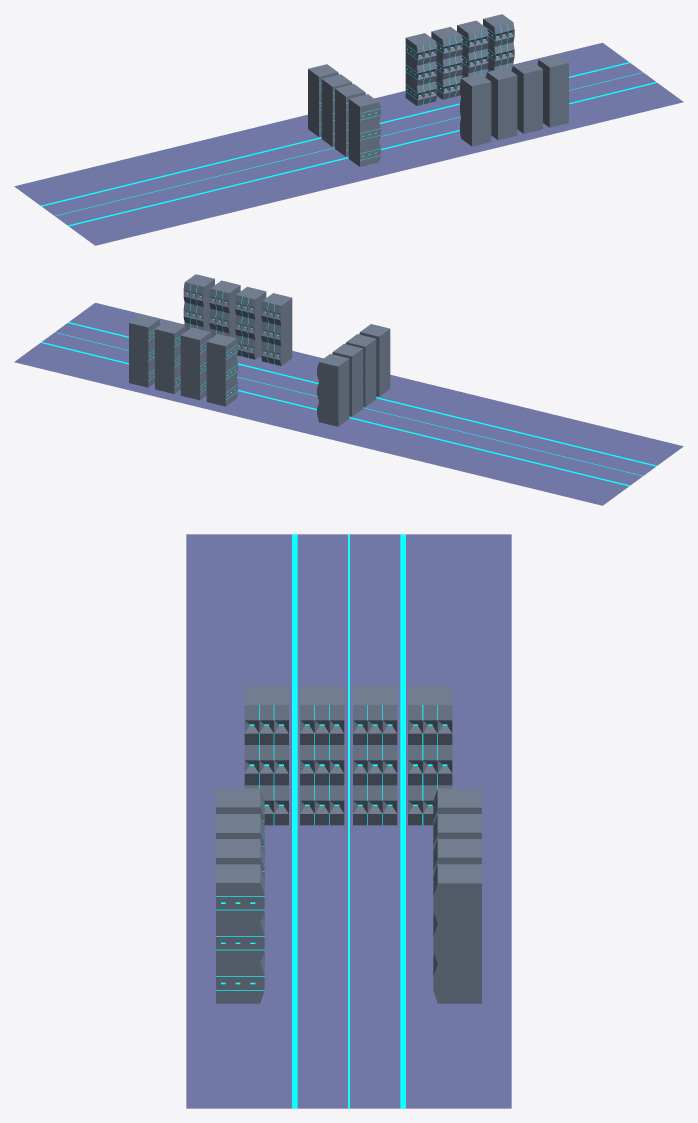
File: server.glb
3 views of the same model, one above another, from view 1: azimuth 30°, elevation 25°; view 2: azimuth 150°, elevation 25°; view 3: azimuth 270°, elevation 25° (orthographic). The views are drawn at different scales.
Parts seen in each view (by area): view 1: Plane, Cube.036, Cube.029, Cube.028, Cube.030, Cube.025, Cube.027, Cube.032, Cube.026, Cube.031, Cube.024, Cube.011 (+17 smaller); view 2: Plane, Cube.033, Cube.028, Cube.029, Cube.027, Cube.030, Cube.032, Cube.025, Cube.031, Cube.026, Cube.021, Cube.008 (+17 smaller); view 3: Plane, Cube.025, Cube.032, Cube.033, Cube.034, Cube.035, Cube.036, Cube.016, Cube.007, Cube.020, Cube.012, Cube.021 (+13 smaller).
Part boxes in pixels (bbox=[...]): Plane: bbox=[14, 42, 683, 245]; Cube.036: bbox=[348, 94, 380, 126]; Cube.029: bbox=[460, 74, 491, 106]; Cube.028: bbox=[405, 33, 436, 65]; Cube.030: bbox=[486, 67, 517, 99]; Cube.025: bbox=[483, 14, 514, 46]; Cube.027: bbox=[431, 27, 462, 59]; Cube.032: bbox=[537, 55, 568, 87]; Cube.026: bbox=[457, 20, 488, 53]; Cube.031: bbox=[511, 61, 542, 93]; Cube.024: bbox=[348, 119, 380, 146]; Cube.011: bbox=[348, 139, 380, 166]; Plane: bbox=[14, 302, 683, 505]; Cube.033: bbox=[317, 354, 349, 386]; Cube.028: bbox=[206, 333, 237, 366]; Cube.029: bbox=[261, 293, 292, 325]; Cube.027: bbox=[180, 327, 211, 359]; Cube.030: bbox=[235, 286, 266, 319]; Cube.032: bbox=[183, 274, 214, 306]; Cube.025: bbox=[129, 314, 160, 347]; Cube.031: bbox=[209, 280, 240, 313]; Cube.026: bbox=[155, 321, 186, 353]; Cube.021: bbox=[317, 379, 349, 406]; Cube.008: bbox=[317, 399, 349, 426]; Plane: bbox=[186, 534, 511, 1108]; Cube.025: bbox=[433, 864, 481, 923]; Cube.032: bbox=[216, 864, 264, 923]; Cube.033: bbox=[408, 686, 452, 744]; Cube.034: bbox=[353, 686, 397, 744]; Cube.035: bbox=[300, 686, 344, 744]; Cube.036: bbox=[244, 686, 288, 744]; Cube.016: bbox=[433, 954, 481, 1003]; Cube.007: bbox=[216, 954, 264, 1003]; Cube.020: bbox=[216, 914, 264, 963]; Cube.012: bbox=[433, 914, 481, 963]; Cube.021: bbox=[408, 745, 452, 785].
Bounding box in the file's own units: 61.24 × 5.99 × 14.64.
